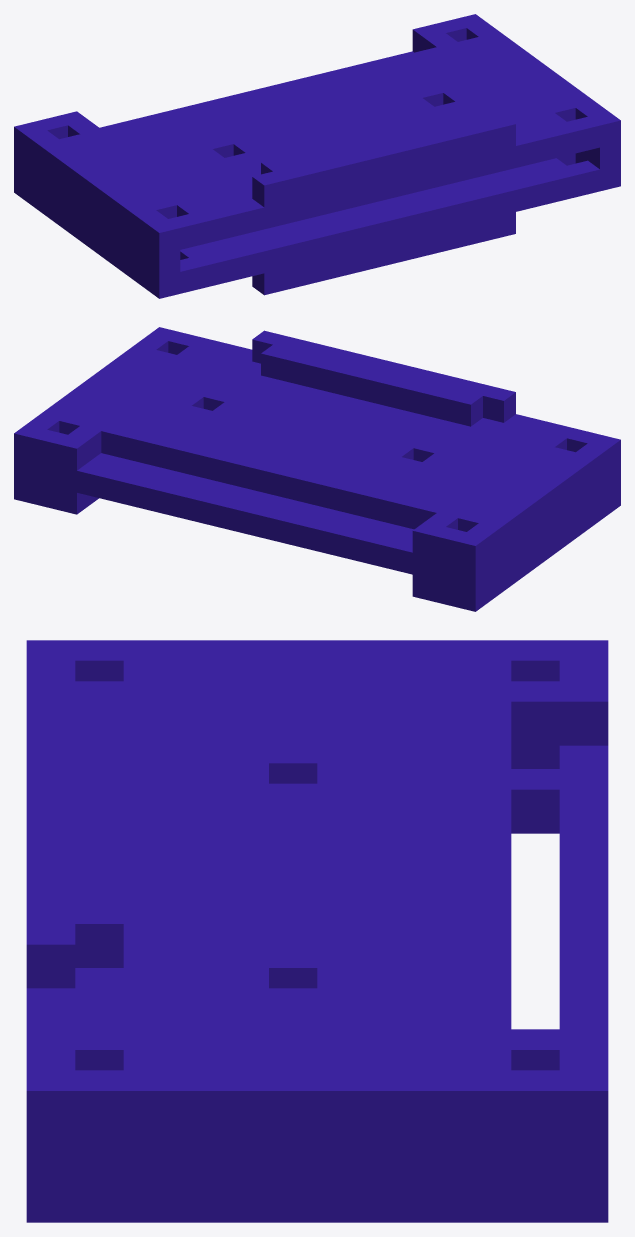
The model's file is Cassette00_Case.gltf.
3 renders of one model, top to bottom at view 1: azimuth 30°, elevation 25°; view 2: azimuth 150°, elevation 25°; view 3: azimuth 270°, elevation 25°, orthographic. The views are drawn at different scales.
Parts seen in each view (by area): view 1: case; view 2: case; view 3: case.
Boxes of the visible parts, x1,y1,x2,y2 form: case: (14, 14, 620, 298); case: (14, 327, 620, 611); case: (26, 640, 608, 1222).
Bounding box in the file's own units: 22 × 5 × 12.
